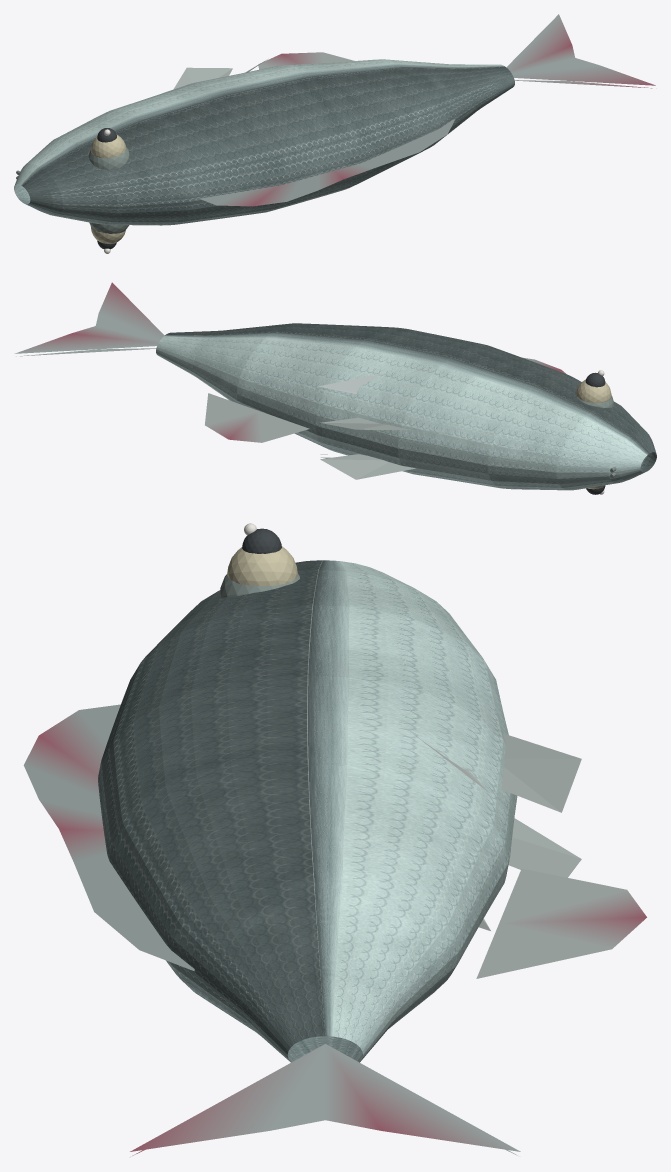
Rendered from Ikan_Siakap.glb.
3 views of the same model, one above another, from view 1: azimuth 30°, elevation 25°; view 2: azimuth 150°, elevation 25°; view 3: azimuth 270°, elevation 25° (orthographic). The views are drawn at different scales.
Parts seen in each view (by area): view 1: fish; view 2: fish; view 3: fish.
Part boxes in pixels (x1=…): fish: x1=14, y1=14, x2=655, y2=253; fish: x1=14, y1=282, x2=656, y2=494; fish: x1=23, y1=523, x2=646, y2=1155.
Bounding box in the file's own units: 2.69 × 0.544 × 1.24.
Materials: 1 (1 with a texture image).
